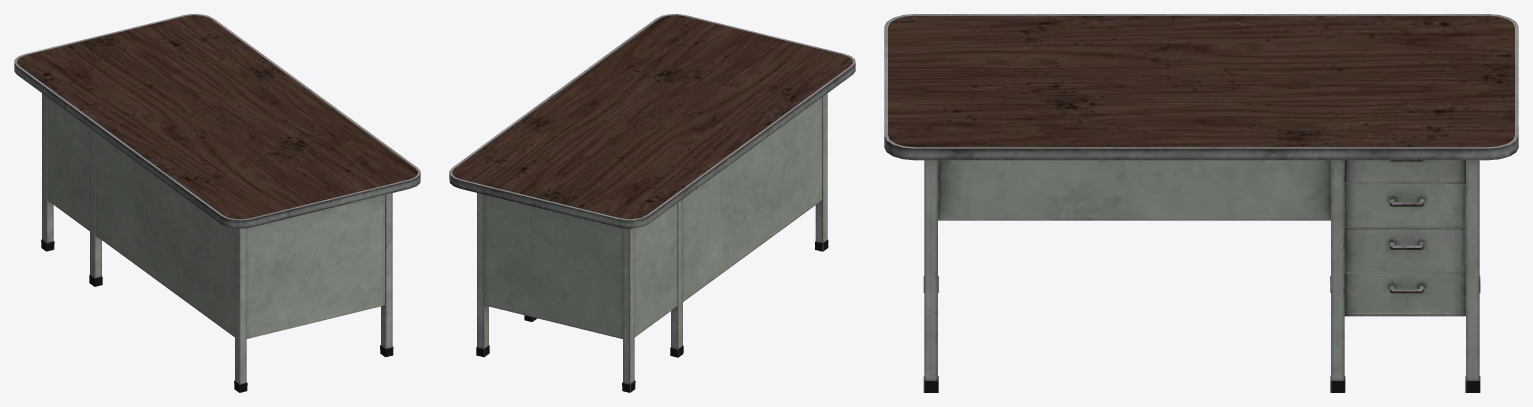
Rendered from metal_table.glb.
3 views of the same model, side by side, from view 1: azimuth 30°, elevation 25°; view 2: azimuth 150°, elevation 25°; view 3: azimuth 270°, elevation 25° (orthographic). The views are drawn at different scales.
Visible parts, largest first — view 1: defaultMaterial; view 2: defaultMaterial; view 3: defaultMaterial.
Boxes of the visible parts, x1,y1,x2,y2 form: defaultMaterial: (14,14,420,392); defaultMaterial: (449,14,855,392); defaultMaterial: (884,14,1518,392).
Size of the model in its own units: 1.01 by 0.9005 by 2.
1 material, 1 textured.
